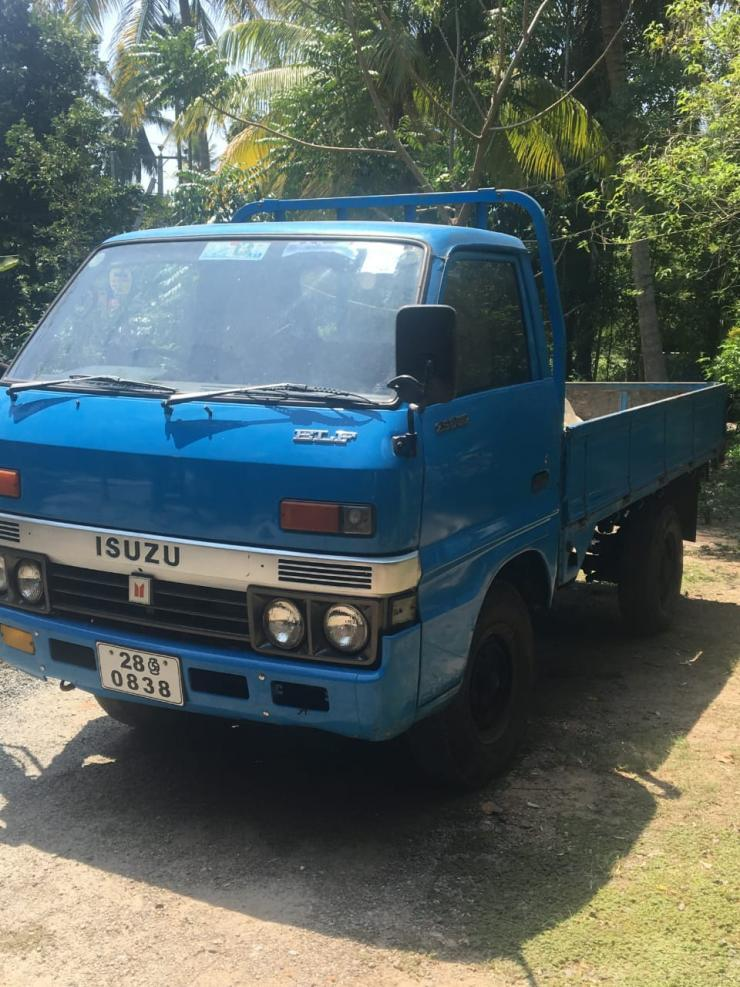truck: (1, 187, 731, 783)
